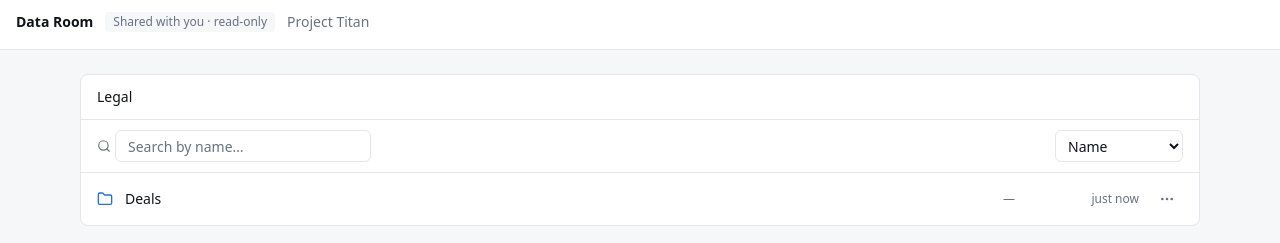
GuestPage › keeps a guest inside the share when they walk down and back up
The image size is (1280, 243).
Click the button "Deals" at (143, 198), box [125,189,923,209]
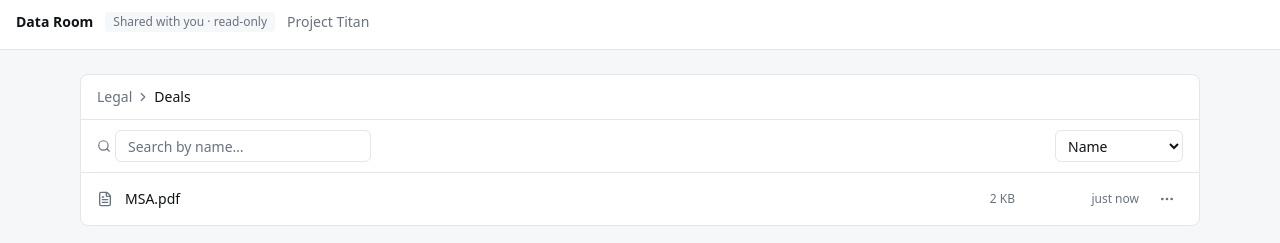
Now the button "MSA.pdf" is shown, box [125,189,923,209]
Click the button "Legal" at (115, 97), box [97,87,132,107]
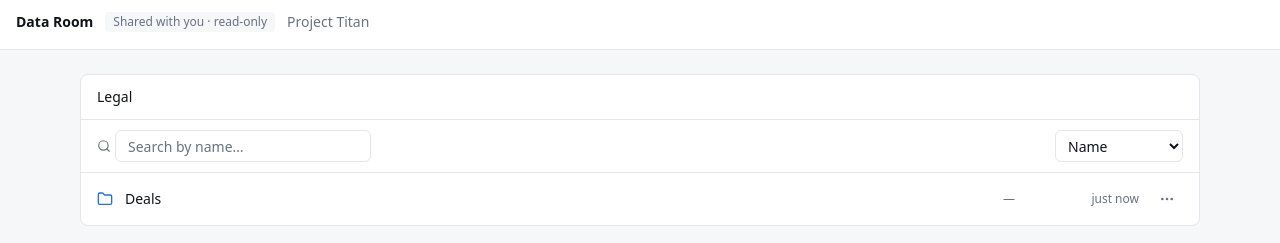
Now the button "Deals" is shown, box [125,189,923,209]
